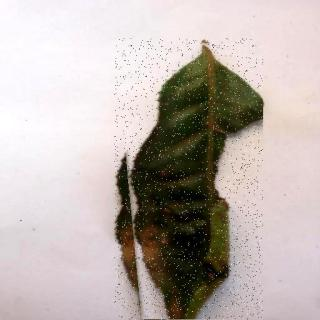Algal Leaf: (115, 38, 264, 320)
